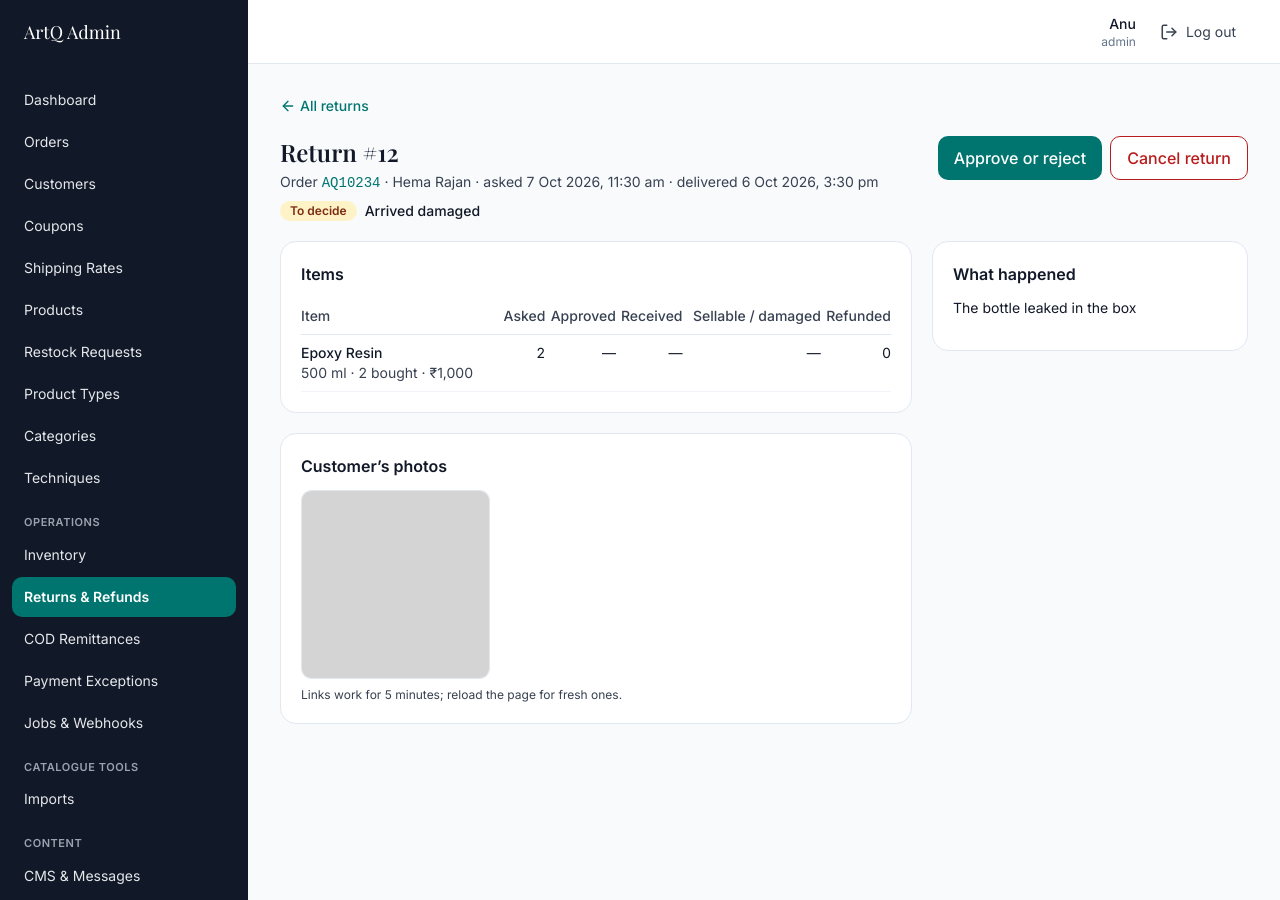
Test: return page › a step someone else already took: says so and reloads the return
Click the button "Approve or reject" at [1020, 158], box [938, 136, 1102, 180]
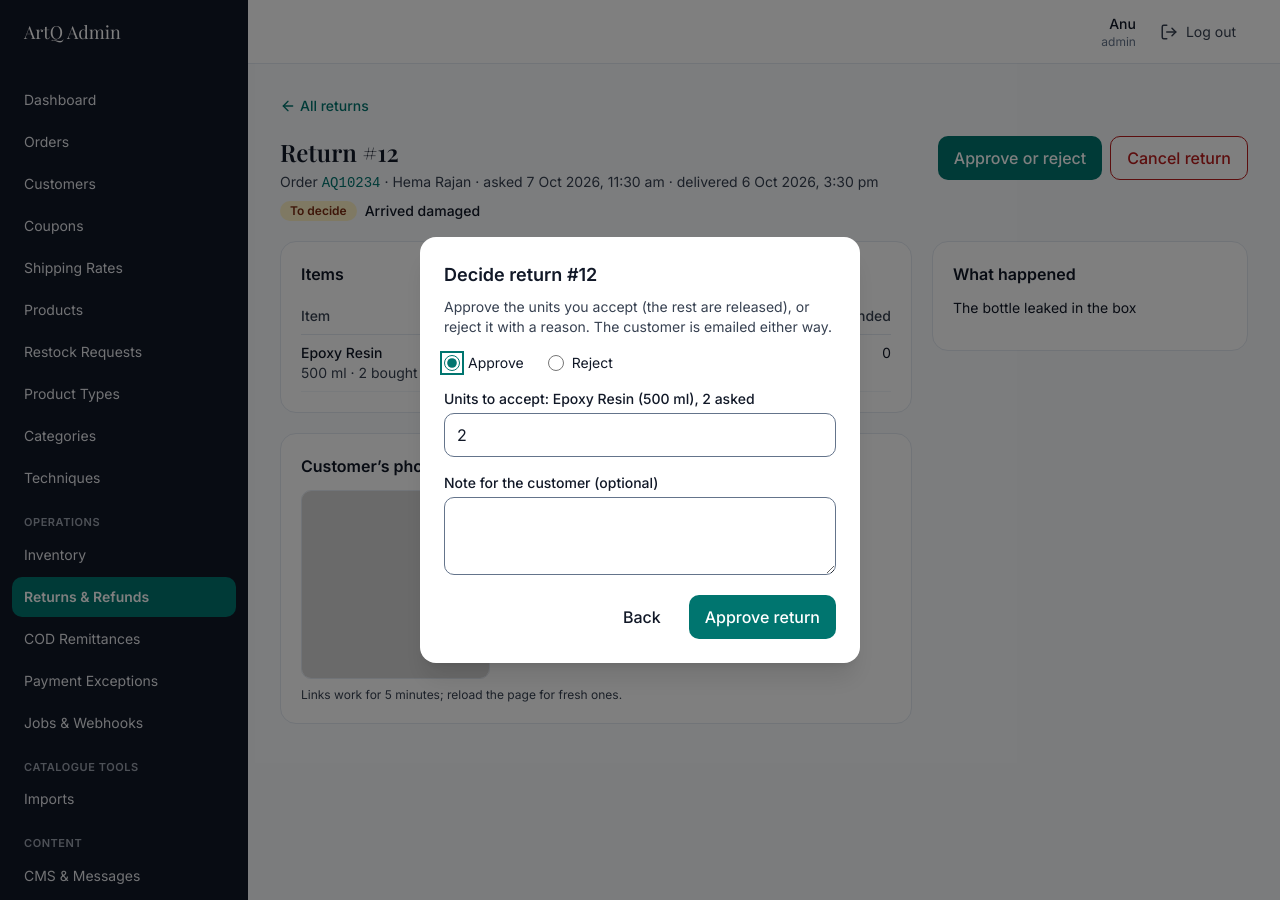
Click the button "Approve return" at [762, 617], box [689, 595, 836, 639]
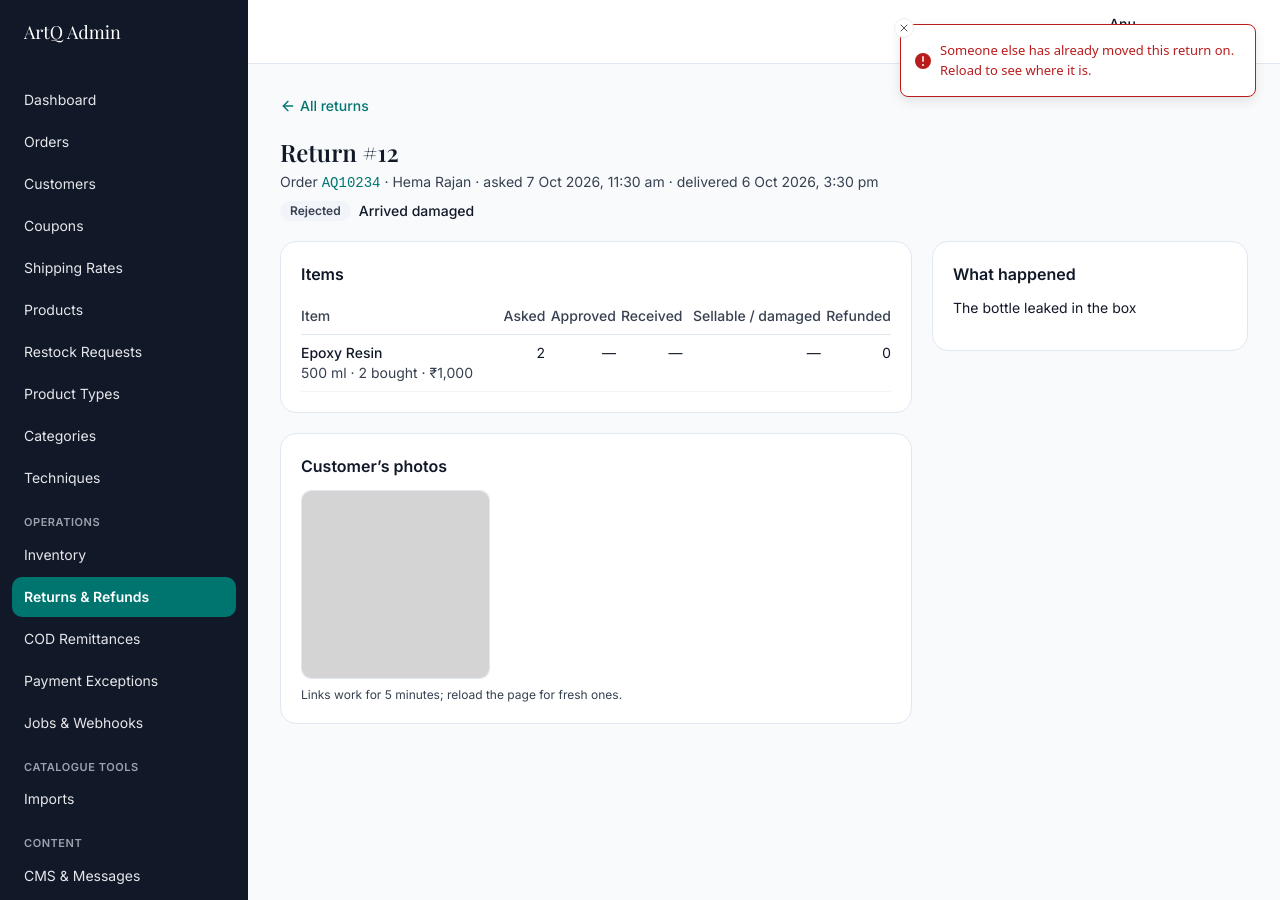
Check: the text "Someone else has already moved this return on. Reload to see where it is." is shown, box [940, 41, 1239, 80]
Check: the button "Approve or reject" is gone
